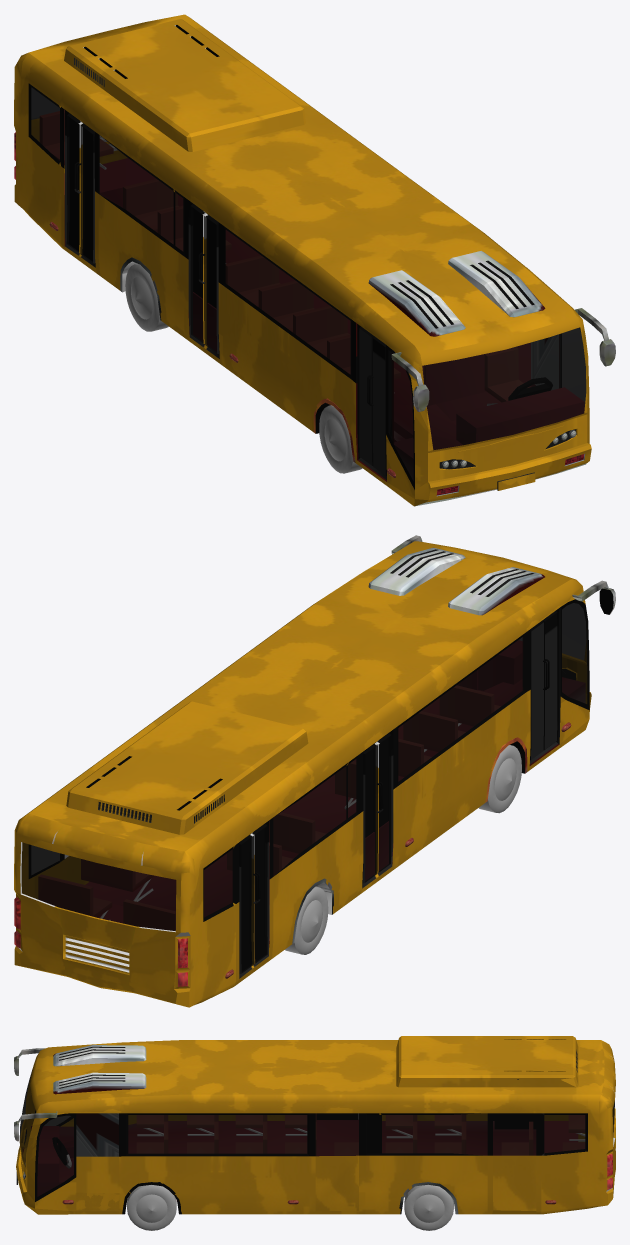
Rendered from Bus_04_v2.fbx.
3 renders of one model, top to bottom at view 1: azimuth 30°, elevation 25°; view 2: azimuth 150°, elevation 25°; view 3: azimuth 270°, elevation 25°, orthographic. The views are drawn at different scales.
Parts seen in each view (by area): view 1: Bus_4body, Bus_4_Glass, Bus_4_door_R, Bus_4_door_L, RR, FR; view 2: Bus_4body, Bus_4_Glass, Bus_4_door_L, Bus_4_door_R, FR, RR; view 3: Bus_4body, Bus_4_Glass, FL, RL.
Boxes of the visible parts, x1,y1,x2,y2 form: Bus_4body: (14,14,615,506); Bus_4_Glass: (31,87,586,480); Bus_4_door_R: (357,324,374,469); Bus_4_door_L: (369,336,391,479); RR: (125,263,168,331); FR: (319,405,362,473); Bus_4body: (14,535,615,1007); Bus_4_Glass: (21,603,587,973); Bus_4_door_L: (542,608,559,754); Bus_4_door_R: (530,621,547,764); FR: (479,745,521,813); RR: (285,886,328,954); Bus_4body: (14,1036,615,1214); Bus_4_Glass: (19,1069,614,1196); FL: (127,1185,176,1230); RL: (404,1184,453,1230).
Bounding box in the file's own units: 273 × 264 × 990.
